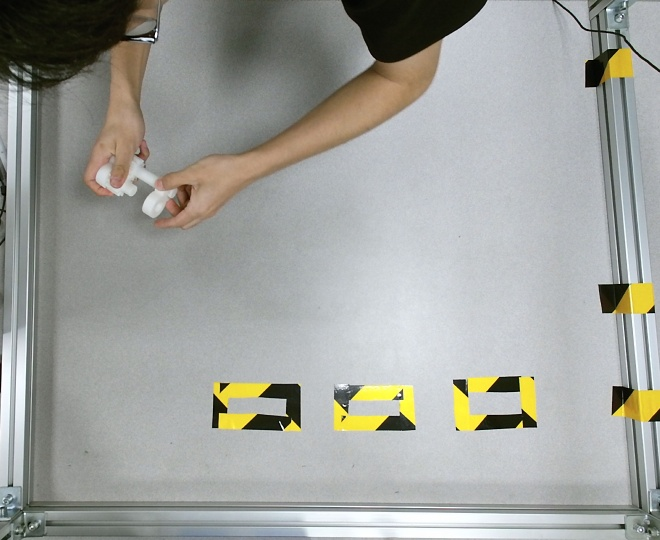stage_3: (97, 153, 176, 198)
